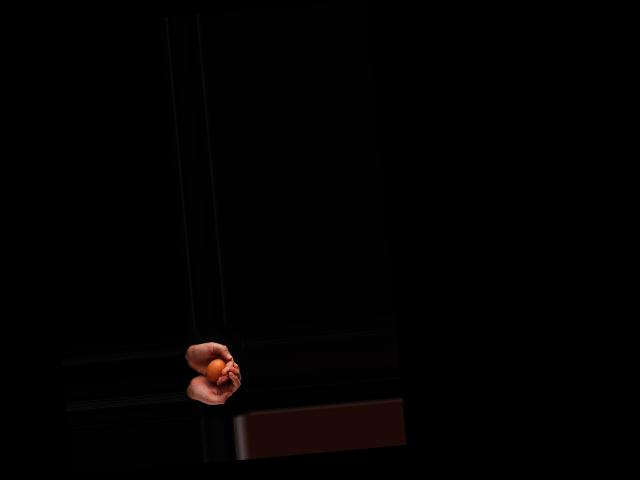egg: (205, 358, 226, 384)
